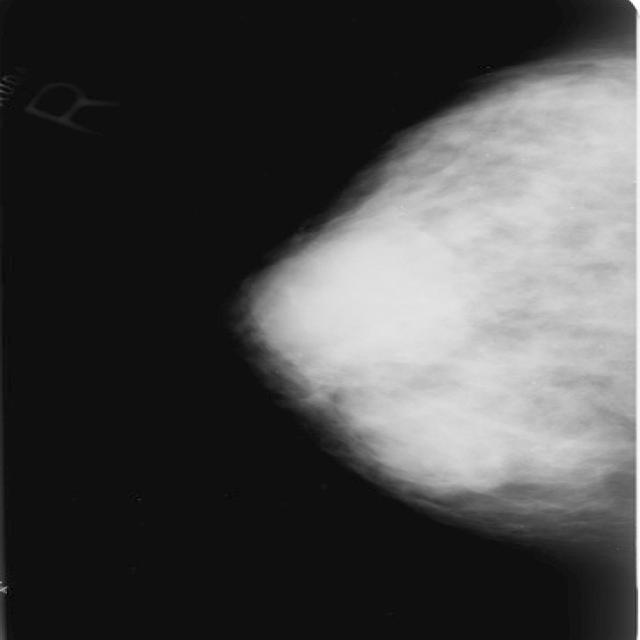tumour: (257, 227, 478, 390)
